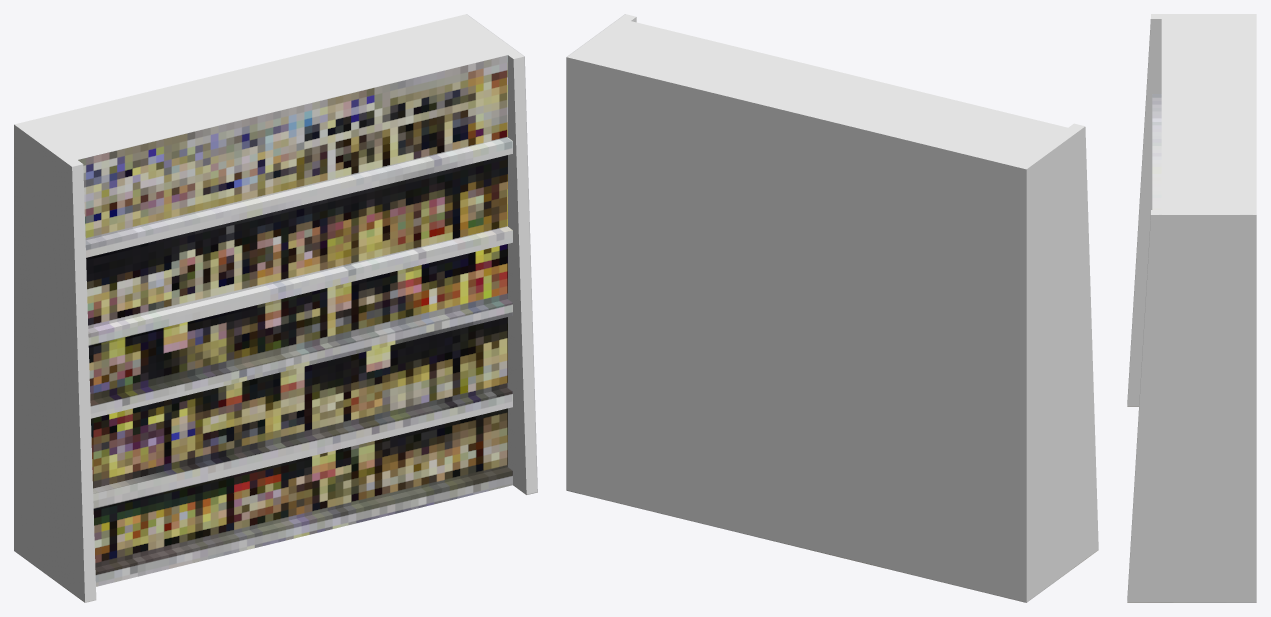
Rendered from Estante_mixto_01.fbx.
3 renders of one model, left to right at view 1: azimuth 30°, elevation 25°; view 2: azimuth 150°, elevation 25°; view 3: azimuth 270°, elevation 25°, orthographic. The views are drawn at different scales.
Visible parts, largest first — view 1: Estante_misto_01; view 2: Estante_misto_01; view 3: Estante_misto_01.
Boxes of the visible parts, x1,y1,x2,y2 form: Estante_misto_01: (14, 14, 537, 602); Estante_misto_01: (566, 14, 1098, 602); Estante_misto_01: (1127, 14, 1256, 602).
Bounding box in the file's own units: 200 × 180 × 54.36.
Materials: 1 (1 with a texture image).
